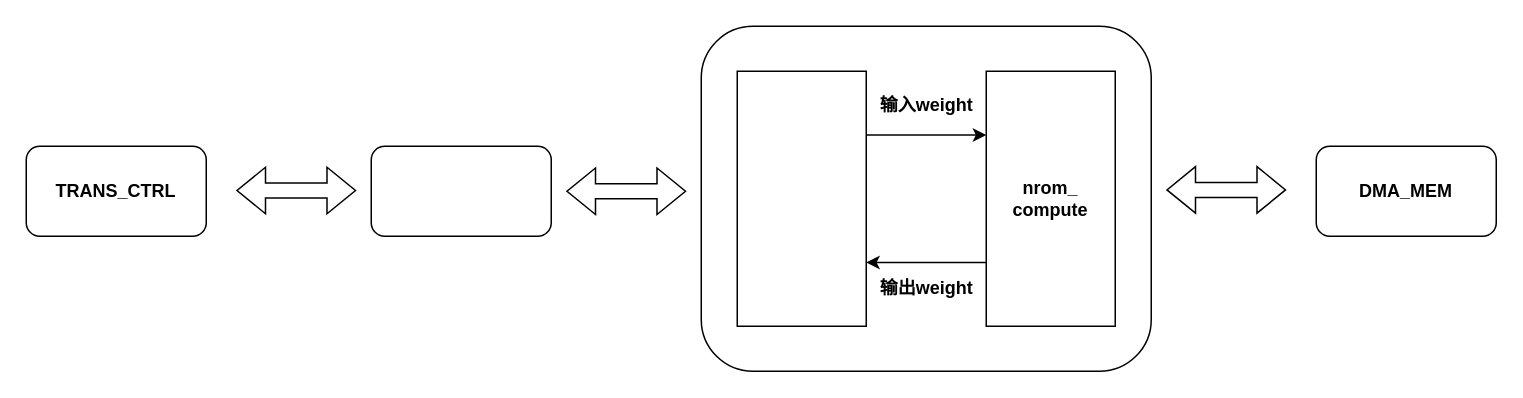
Some shapes in this 1523 by 398 pixel diagram are drawn without their labels. Each missing label, with the box of its shape:
FIFO: (370, 145, 551, 236)
nrom_ ctrl: (736, 70, 866, 326)
